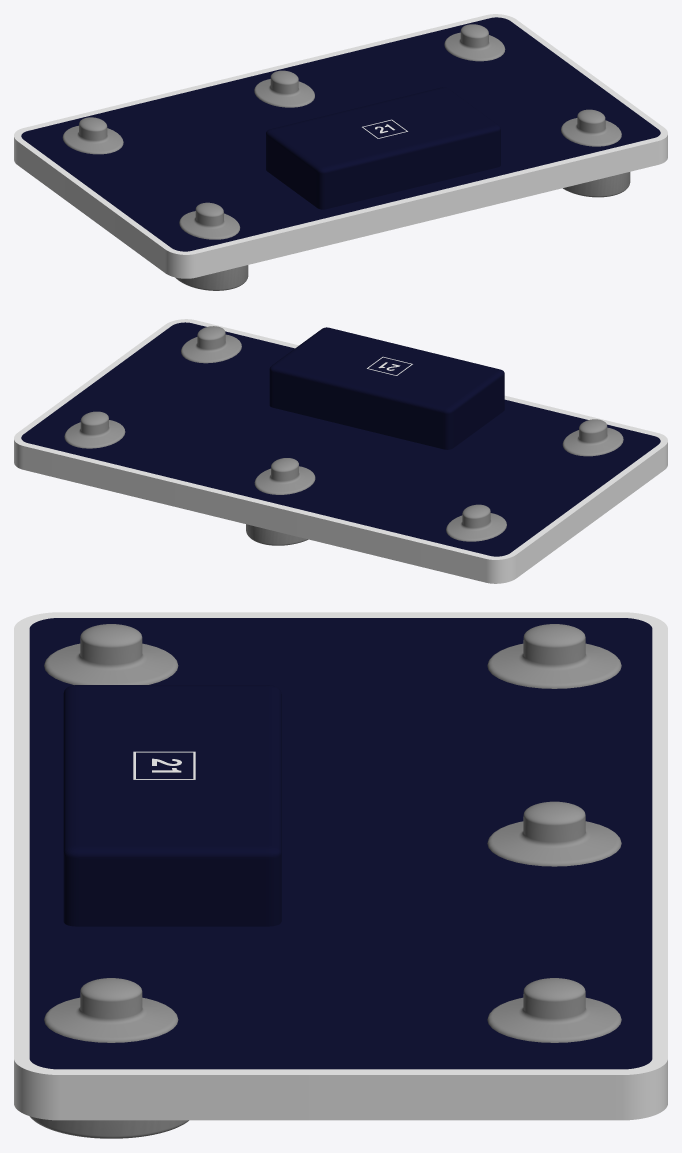
Rendered from MusicBox.FBX.
The picture shows the model from 3 angles, top to bottom: view 1: azimuth 30°, elevation 25°; view 2: azimuth 150°, elevation 25°; view 3: azimuth 270°, elevation 25°; orthographic projection. The views are drawn at different scales.
Visible parts, largest first — view 1: Base (×2), Box, ButtonUp (×5), ButtonDown (×2); view 2: Base (×2), Box, ButtonUp (×5), ButtonDown; view 3: Base (×2), Box, ButtonUp (×5), ButtonDown.
Part boxes in pixels (left/top/right/bottom): Base (×2): left=14, top=14, right=667, bottom=278; Box: left=266, top=87, right=500, bottom=209; ButtonUp (×5): left=62, top=24, right=621, bottom=239; ButtonDown (×2): left=175, top=172, right=630, bottom=290; Base (×2): left=14, top=319, right=667, bottom=583; Box: left=269, top=327, right=504, bottom=449; ButtonUp (×5): left=64, top=326, right=623, bottom=541; ButtonDown: left=246, top=524, right=308, bottom=545; Base (×2): left=14, top=612, right=667, bottom=1120; Box: left=63, top=685, right=281, bottom=926; ButtonUp (×5): left=44, top=624, right=621, bottom=1042; ButtonDown: left=29, top=1116, right=188, bottom=1138.
Size of the model in its own units: 104 by 17.47 by 62.21.
